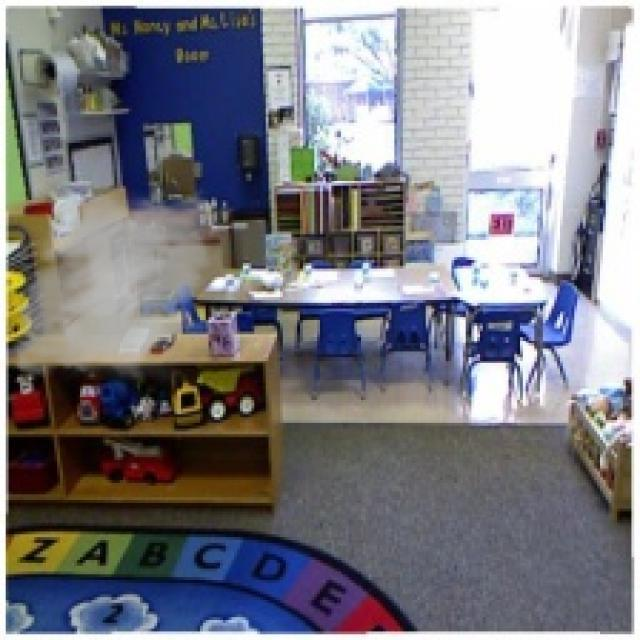Smoke: (6, 175, 223, 392)
